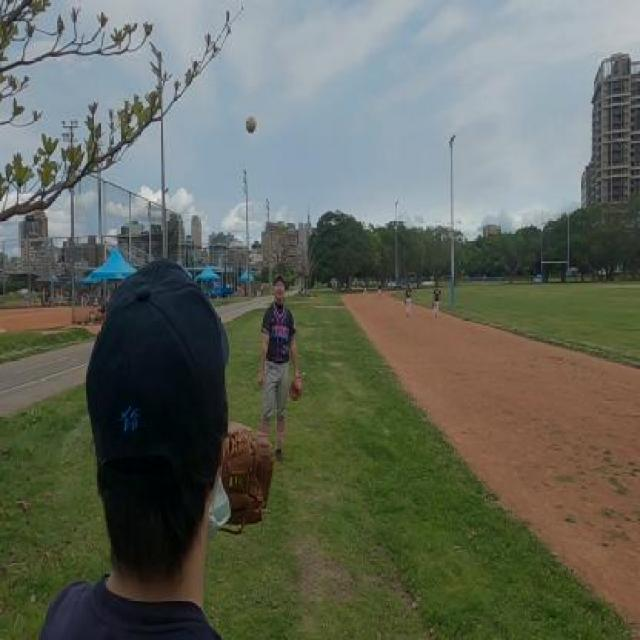ball: (245, 116, 258, 134)
